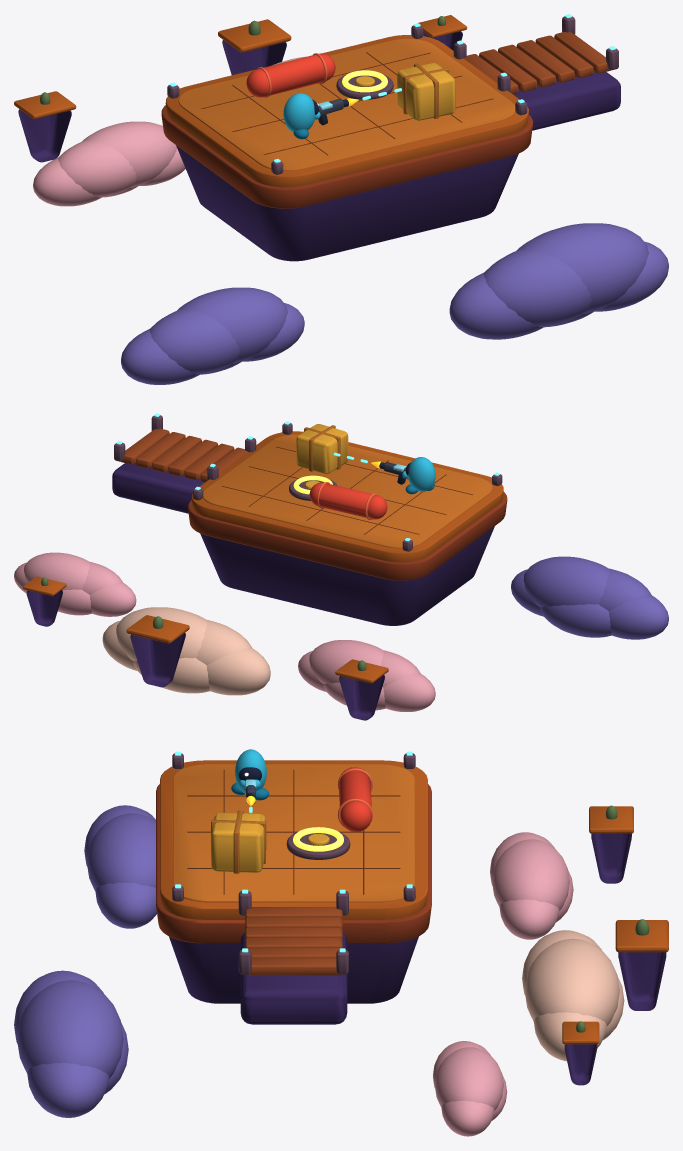
Rendered from sunset_hero_slice.glb.
The picture shows the model from 3 angles, top to bottom: view 1: azimuth 30°, elevation 25°; view 2: azimuth 150°, elevation 25°; view 3: azimuth 270°, elevation 25°; orthographic projection. The views are drawn at different scales.
Visible parts, largest first — view 1: HeroPlatformTopInset, HeroPlatformCliff, HeroPlatformWarmBand, HeroPlatformTop, HeroCloudVioletSouth_2, HeroCloudVioletSouth_1, HeroCloudVioletWest_2, HeroCloudVioletWest_1, HeroBridgeShadow, HeroCloudVioletSouth_0, HeroCloudPinkNorth_2, HeroCloudPinkNorth_1 (+20 smaller); view 2: HeroPlatformTopInset, HeroPlatformCliff, HeroPlatformWarmBand, HeroPlatformTop, HeroCloudVioletWest_2, HeroBridgeShadow, HeroCloudCreamNorth_0, HeroCloudVioletWest_0, HeroCloudCreamNorth_2, HeroCloudPinkNorth_2, HeroDistantIslandCliff_1, HeroGoldenCrate (+25 smaller); view 3: HeroPlatformTopInset, HeroCloudVioletSouth_2, HeroPlatformTop, HeroPlatformCliff, HeroCloudCreamNorth_2, HeroBridgeShadow, HeroPlatformWarmBand, HeroCloudVioletWest_2, HeroCloudPinkNorth_2, HeroCloudVioletSouth_3, HeroCloudPinkEast_2, HeroGoldenCrate (+25 smaller).
Boxes of the visible parts, x1,y1,x2,y2 form: HeroPlatformTopInset: (178, 38, 515, 170); HeroPlatformCliff: (176, 145, 518, 261); HeroPlatformWarmBand: (161, 105, 533, 208); HeroPlatformTop: (165, 35, 528, 187); HeroCloudVioletSouth_2: (516, 223, 648, 313); HeroCloudVioletSouth_1: (484, 248, 591, 326); HeroCloudVioletWest_2: (177, 287, 287, 363); HeroCloudVioletWest_1: (149, 308, 239, 374); HeroBridgeShadow: (513, 71, 620, 130); HeroCloudVioletSouth_0: (449, 272, 543, 339); HeroCloudPinkNorth_2: (82, 121, 176, 187); HeroCloudPinkNorth_1: (58, 140, 136, 197); HeroPlatformTopInset: (203, 434, 492, 548); HeroPlatformCliff: (200, 526, 494, 625); HeroPlatformWarmBand: (187, 492, 507, 580); HeroPlatformTop: (191, 431, 503, 562); HeroCloudVioletWest_2: (523, 556, 609, 607); HeroBridgeShadow: (112, 462, 204, 513); HeroCloudCreamNorth_0: (207, 648, 270, 695); HeroCloudVioletWest_0: (609, 595, 668, 639); HeroCloudCreamNorth_2: (116, 607, 207, 661); HeroCloudPinkNorth_2: (309, 640, 383, 683); HeroDistantIslandCliff_1: (130, 633, 185, 687); HeroGoldenCrate: (296, 424, 348, 473); HeroPlatformTopInset: (173, 764, 414, 902); HeroCloudVioletSouth_2: (17, 980, 123, 1078); HeroPlatformTop: (160, 760, 427, 919); HeroPlatformCliff: (169, 936, 418, 1003); HeroCloudCreamNorth_2: (525, 938, 619, 1026); HeroBridgeShadow: (240, 933, 347, 1024); HeroPlatformWarmBand: (156, 784, 431, 943); HeroCloudVioletWest_2: (87, 813, 155, 890); HeroCloudPinkNorth_2: (492, 839, 569, 910); HeroCloudVioletSouth_3: (27, 1062, 108, 1117); HeroCloudPinkEast_2: (435, 1047, 503, 1110); HeroGoldenCrate: (211, 812, 266, 872).
Size of the model in its own units: 37.98 by 12.93 by 31.96.
